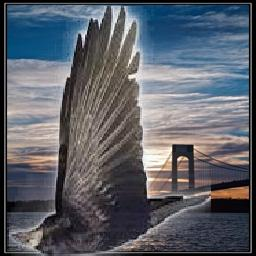Crow: (9, 6, 211, 256)
